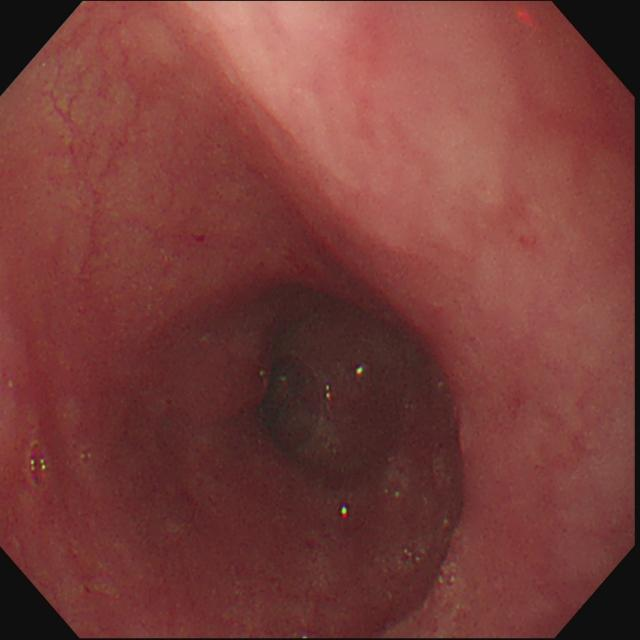E: (237, 297, 402, 490)
